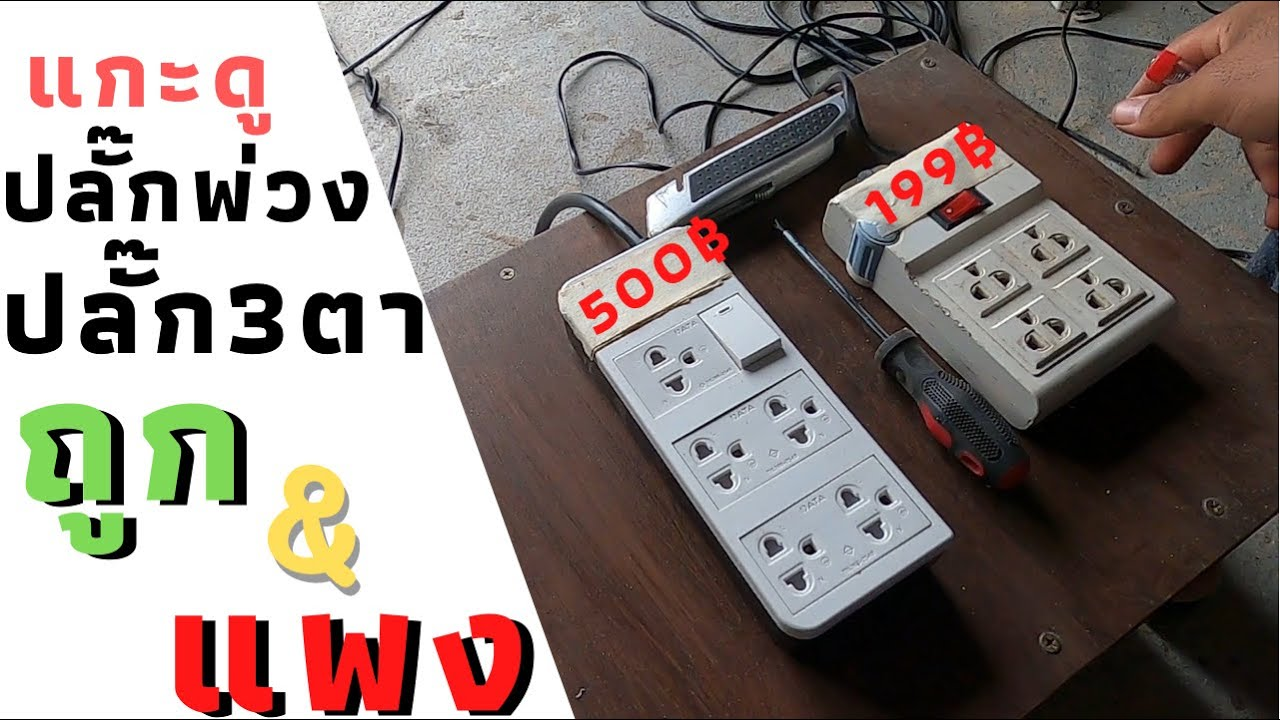Three_eye_plug: (546, 216, 958, 648), (816, 119, 1184, 437)
